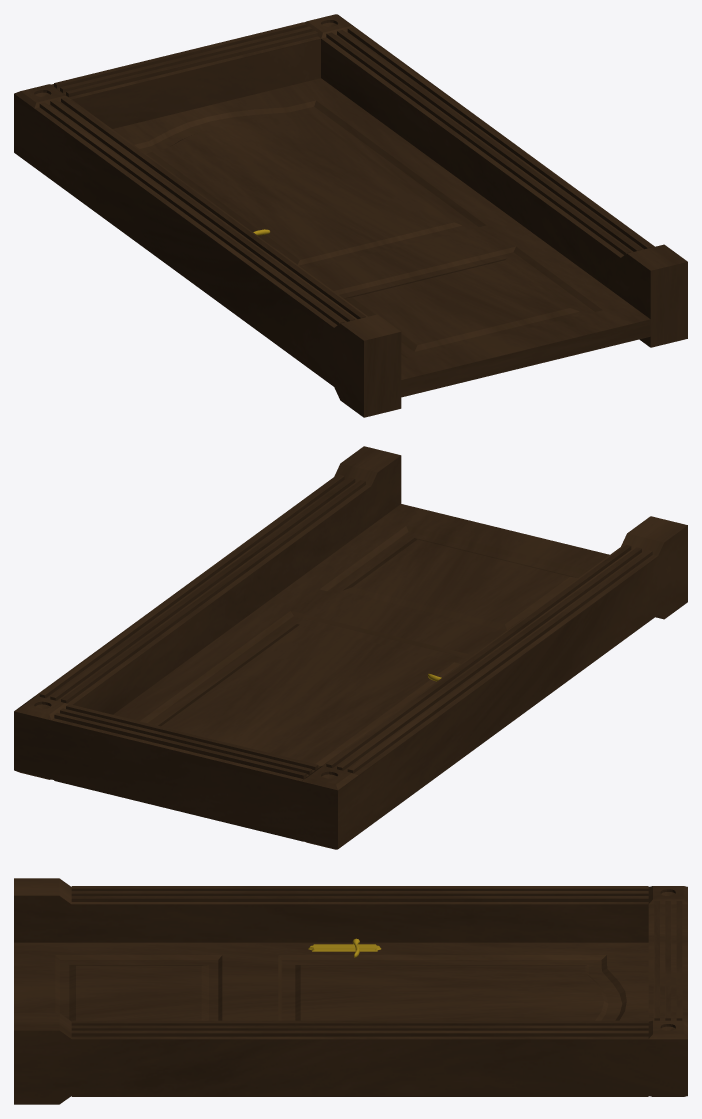
Rendered from Puertas.fbx.
The picture shows the model from 3 angles, top to bottom: view 1: azimuth 30°, elevation 25°; view 2: azimuth 150°, elevation 25°; view 3: azimuth 270°, elevation 25°; orthographic projection. The views are drawn at different scales.
Parts seen in each view (by area): view 1: Marco, PuertaSinCristal.002; view 2: Marco, PuertaSinCristal.002; view 3: Marco, PuertaSinCristal.002.
Part boxes in pixels (left/top/right/bottom): Marco: left=14, top=14, right=687, bottom=417; PuertaSinCristal.002: left=112, top=78, right=650, bottom=397; Marco: left=14, top=446, right=687, bottom=849; PuertaSinCristal.002: left=113, top=504, right=609, bottom=765; Marco: left=14, top=878, right=687, bottom=1104; PuertaSinCristal.002: left=14, top=942, right=648, bottom=1021.
Size of the model in its own units: 125 by 28.35 by 234.
